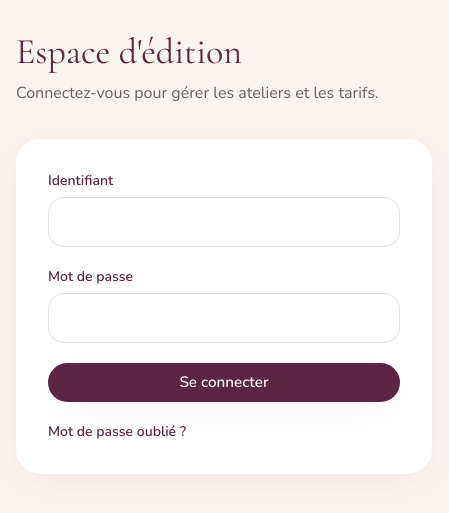
LoginForm › shows the server's message on bad credentials and clears the password
The width and height of the screenshot is (449, 513).
Type "cecile" into the field labelled "Identifiant".
click(224, 222); type("cecile")  # box left=48, top=197, right=400, bottom=247
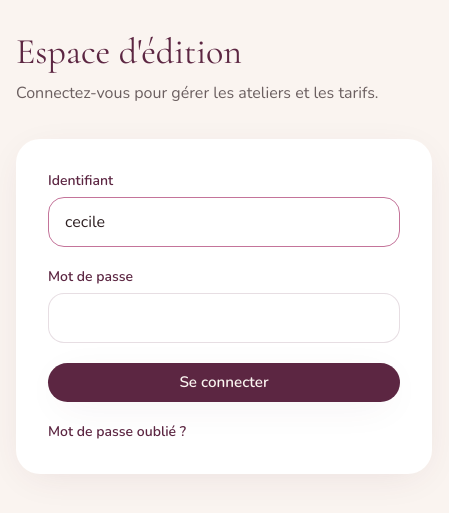
Type "mauvais" into the password field labelled "Mot de passe".
click(224, 318); type("mauvais")  # box left=48, top=293, right=400, bottom=343
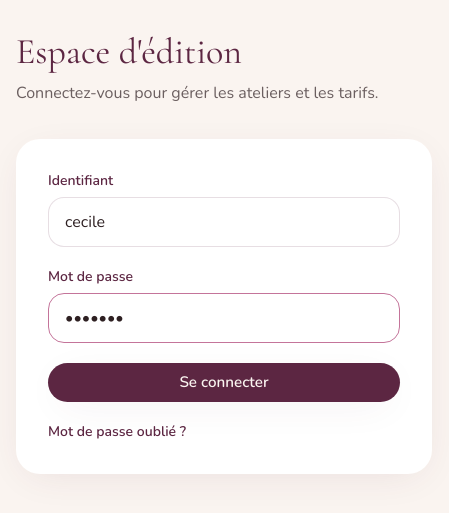
Click the button "Se connecter".
click(224, 383)  # box left=48, top=363, right=400, bottom=402
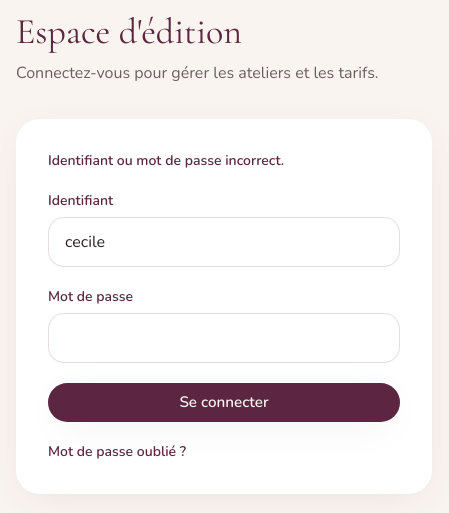
Now the text "Identifiant ou mot de passe incorrect." is shown, box left=48, top=151, right=284, bottom=170
Now the password field labelled "Mot de passe" is empty, box left=48, top=313, right=400, bottom=363
